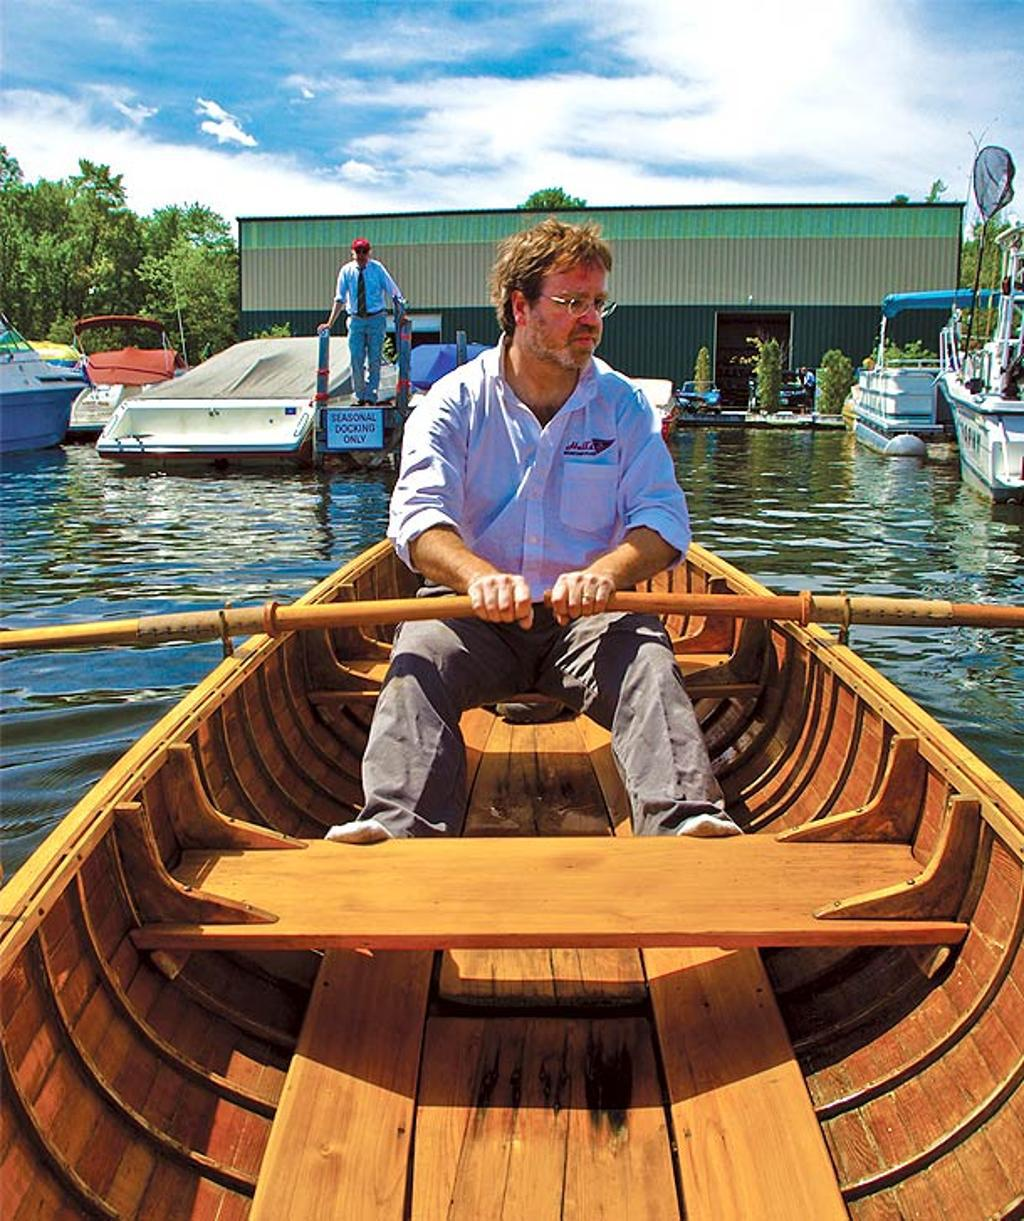face: (542, 253, 604, 367)
